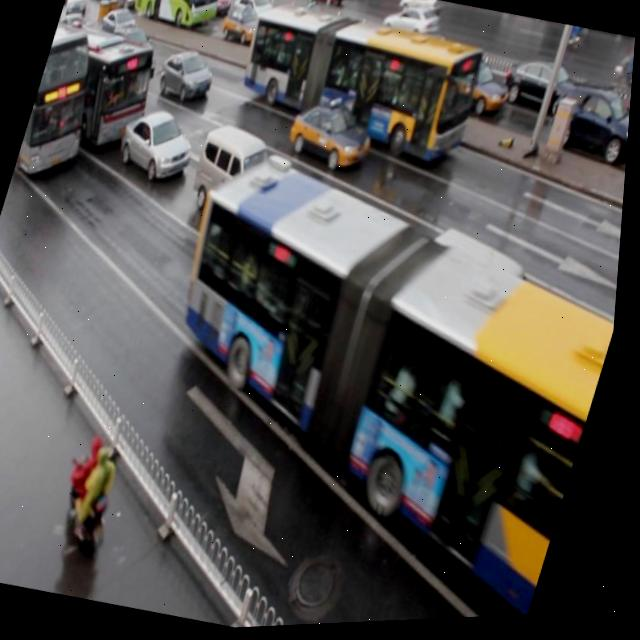car: (257, 180, 398, 308), (282, 96, 384, 182), (543, 82, 634, 178), (110, 103, 204, 192), (549, 355, 612, 472), (430, 53, 517, 128), (497, 59, 586, 130), (386, 25, 462, 87), (155, 48, 221, 111), (311, 26, 374, 88), (104, 25, 164, 81), (274, 7, 332, 62), (219, 5, 268, 50), (609, 80, 634, 162), (98, 5, 142, 44), (228, 0, 277, 33), (34, 57, 59, 108)
truck: (382, 220, 568, 417), (180, 118, 291, 243)
van: (108, 135, 631, 635), (222, 0, 494, 184), (23, 19, 167, 163), (15, 14, 116, 185), (127, 0, 227, 35)
